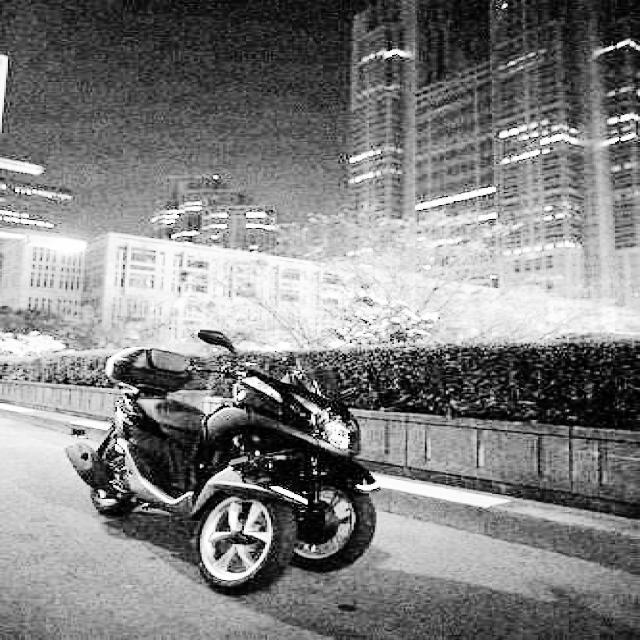Motorcycle: (75, 293, 411, 621)
